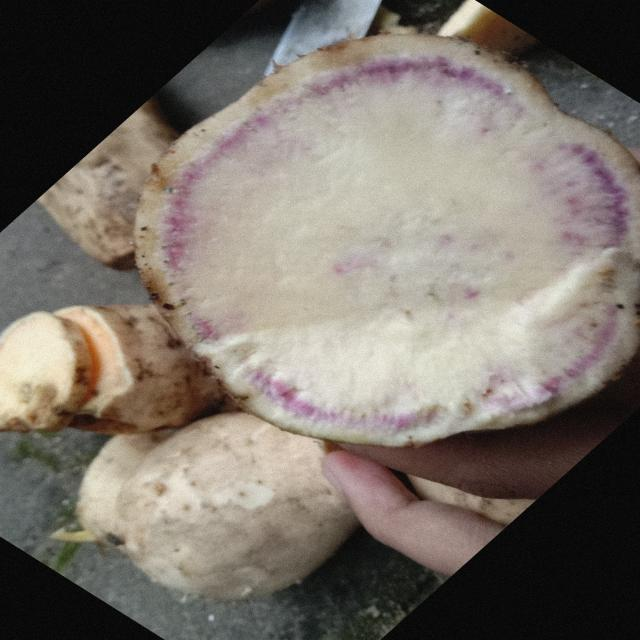Healthy Sweet Potato: (137, 34, 638, 446)
